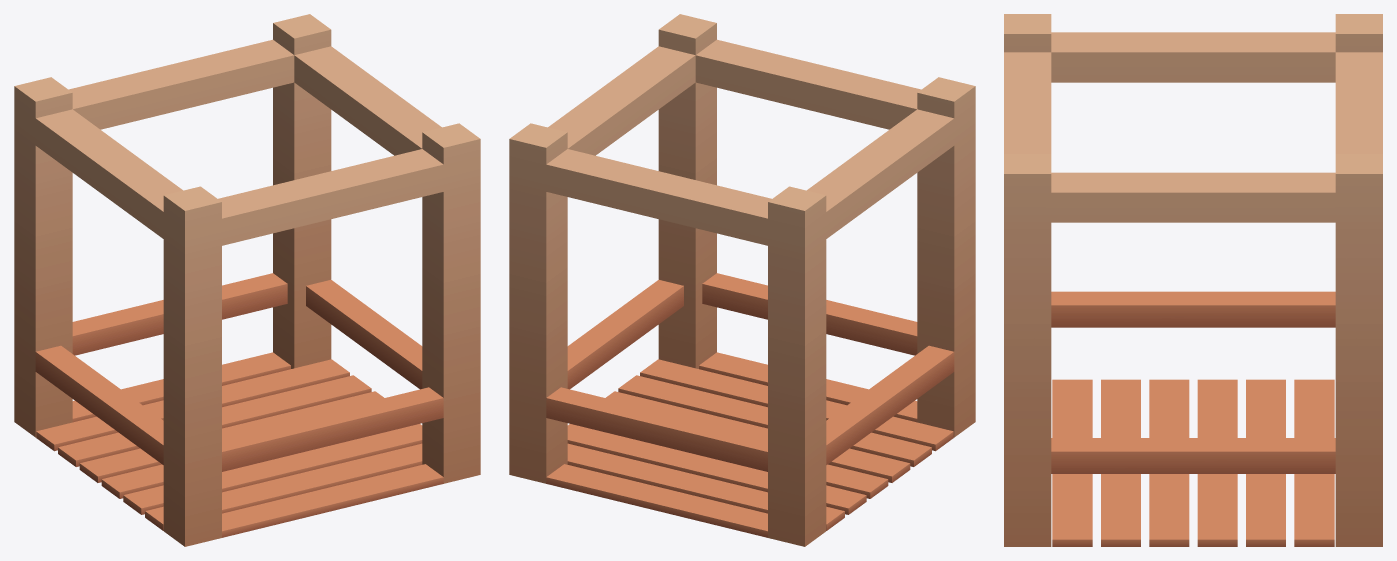
The model's file is tower-square-mid-open.glb.
The picture shows the model from 3 angles, left to right: view 1: azimuth 30°, elevation 25°; view 2: azimuth 150°, elevation 25°; view 3: azimuth 270°, elevation 25°; orthographic projection. The views are drawn at different scales.
Parts seen in each view (by area): view 1: tower-square-mid-open; view 2: tower-square-mid-open; view 3: tower-square-mid-open.
Boxes of the visible parts, bbox=[...] form: tower-square-mid-open: bbox=[14, 14, 480, 546]; tower-square-mid-open: bbox=[509, 14, 975, 546]; tower-square-mid-open: bbox=[1004, 14, 1382, 546].
Bounding box in the file's own units: 0.93 × 1.01 × 0.93.
1 material, 1 textured.
